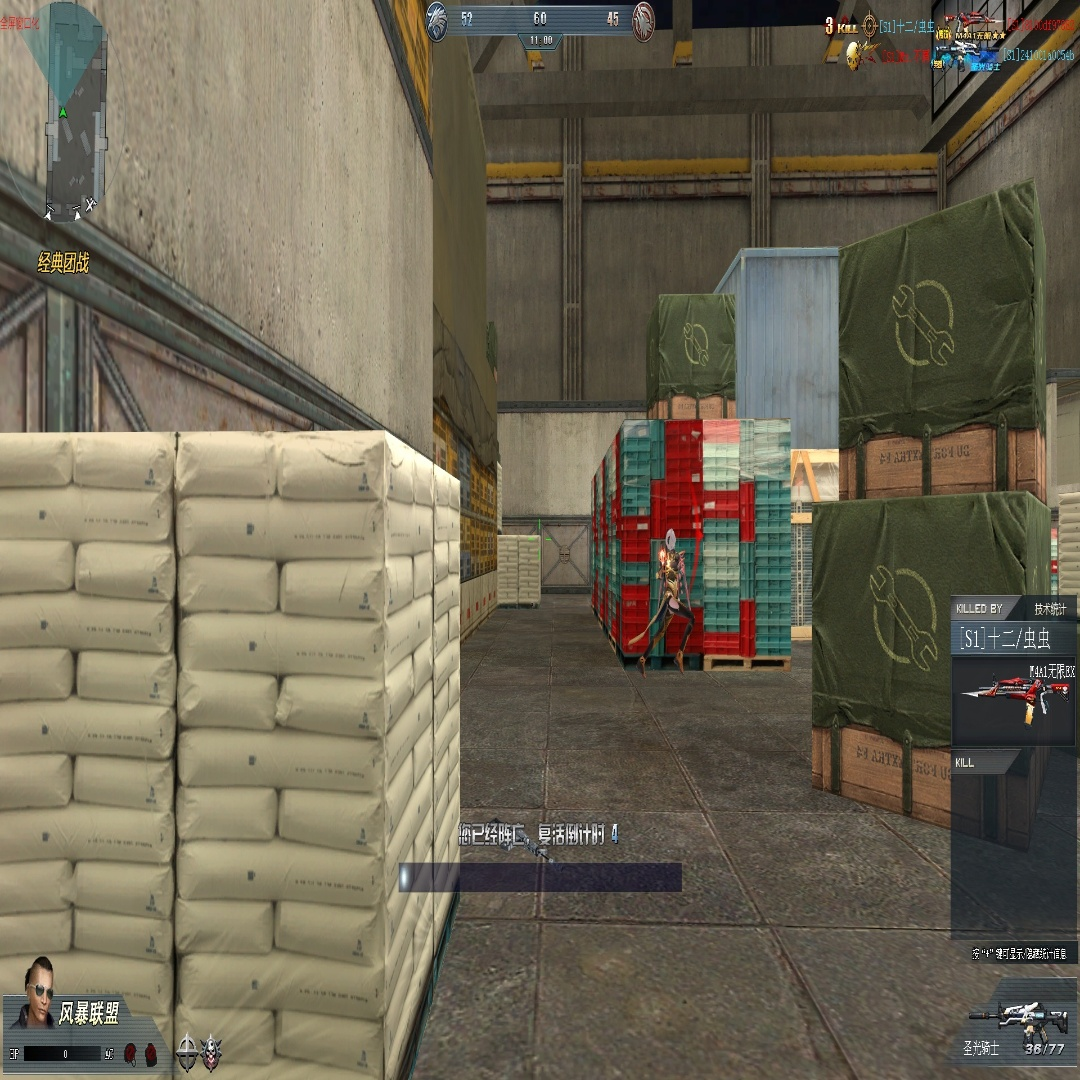ct: (648, 526, 692, 678)
head: (664, 527, 678, 556)
